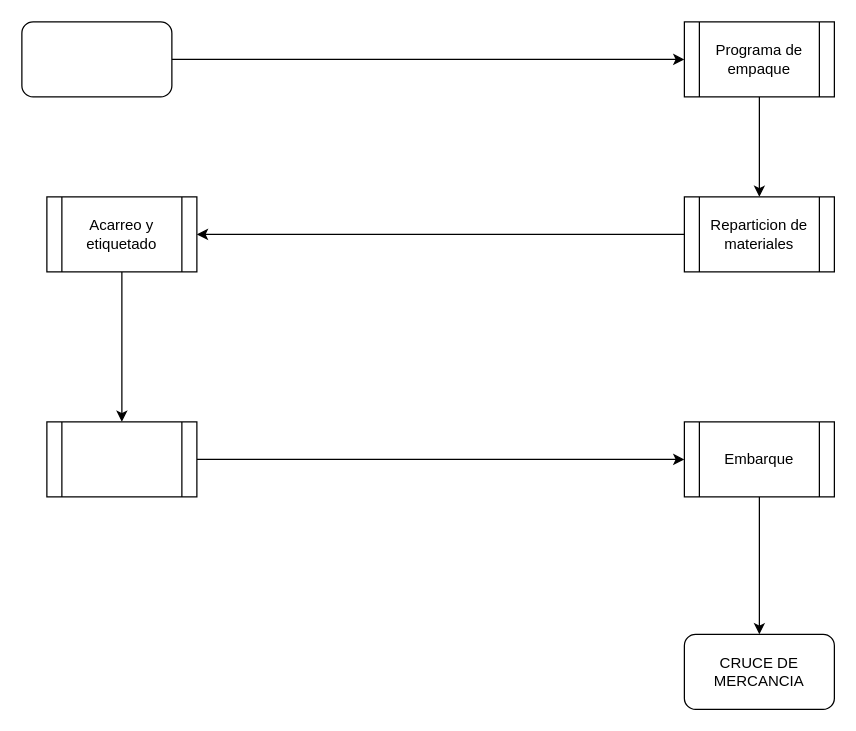
Image size: 856x731. Some labels were removed from this diagram. The shapes that lost their labels are listed below. From the top down, each one's centre as x and y in pixels, then its label:
At (96,59): "COSECHA DE UVA".
At (121,459): "Enfriamiento y almacenamiento".
